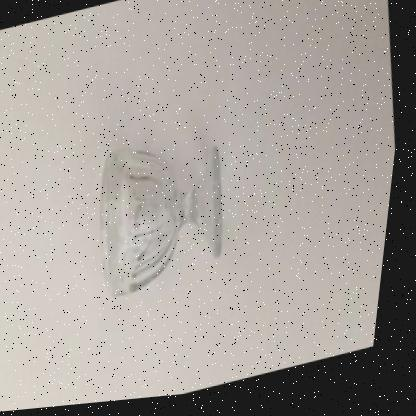Glass: (106, 151, 229, 297)
